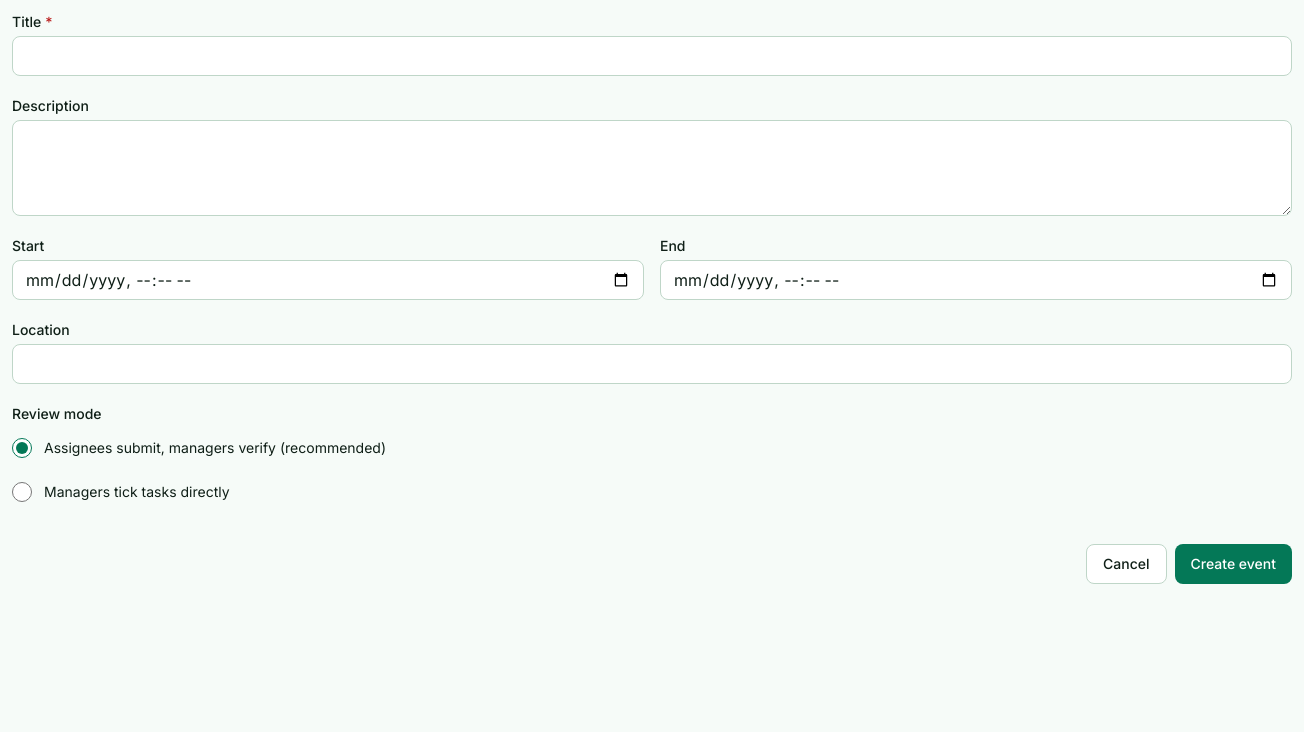
it: NewEventForm › refuses a date without a time instead of silently saving no date
The image size is (1304, 732).
Type "Fest" into the field labelled "Title*" at (652, 56), box top-left (12, 36), bottom-right (1292, 76)
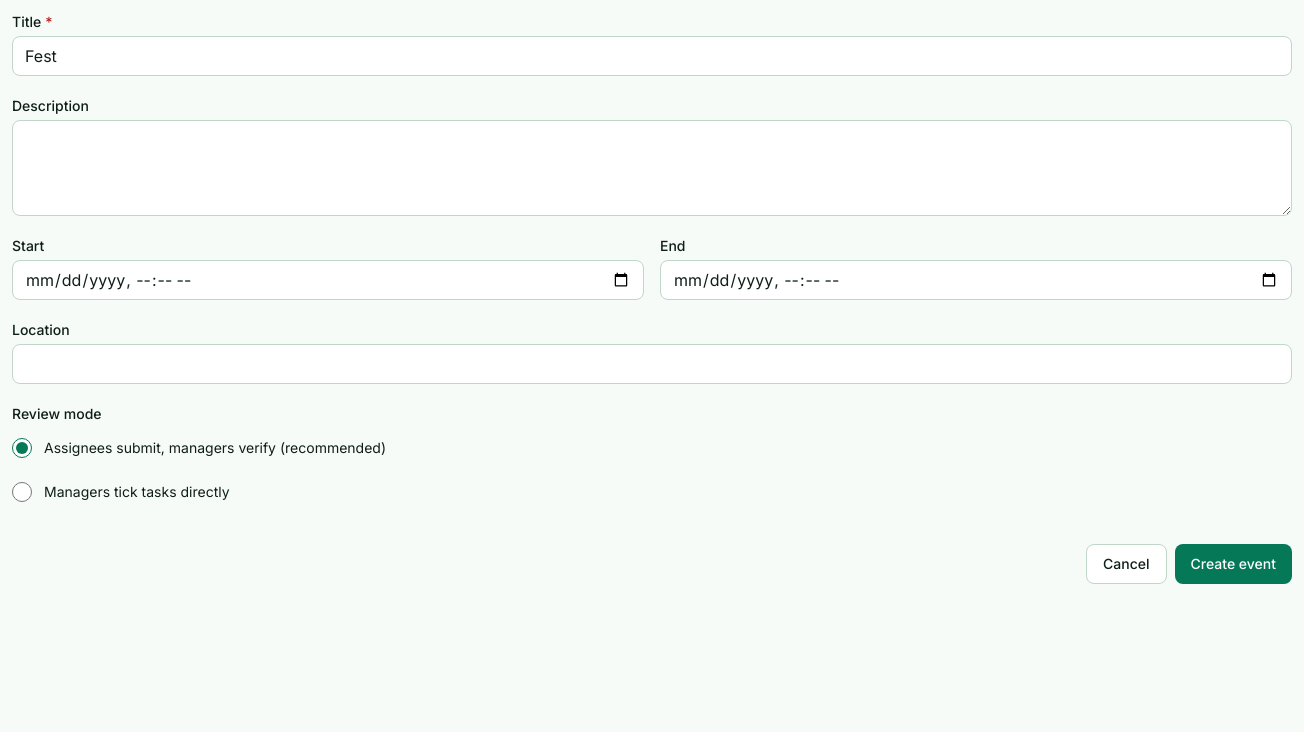
Type "2026-11-01T10:00" into the field labelled "Start" at (328, 280), box top-left (12, 260), bottom-right (644, 300)
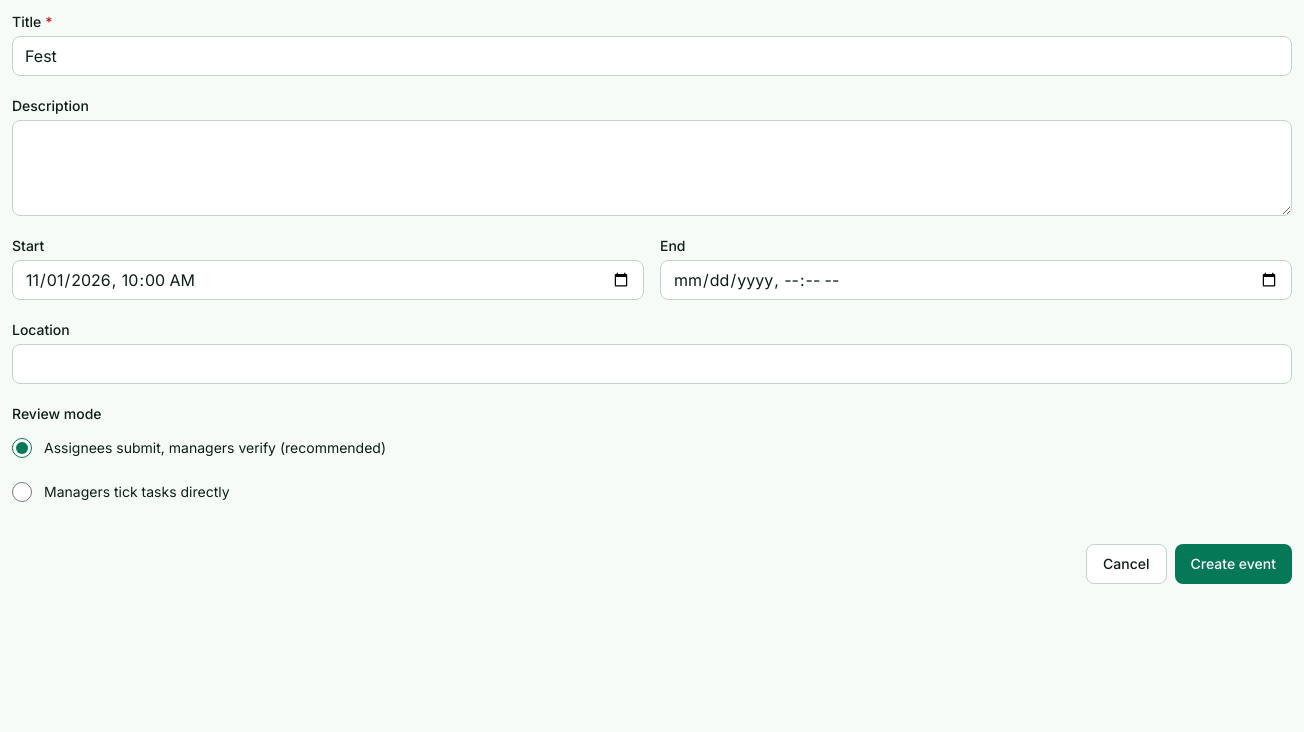
Clear the field labelled "Start" at (328, 280), box top-left (12, 260), bottom-right (644, 300)
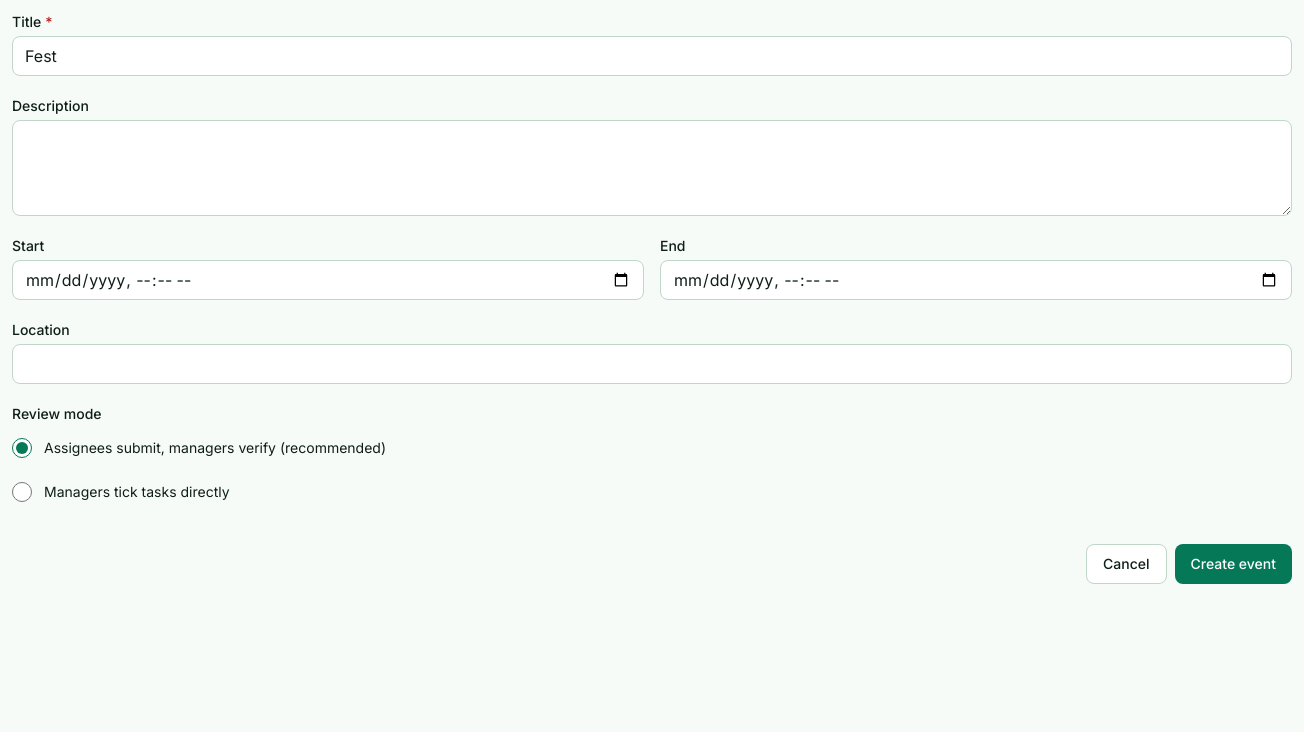
Click the button "Create event" at (1233, 564), box top-left (1174, 544), bottom-right (1292, 584)
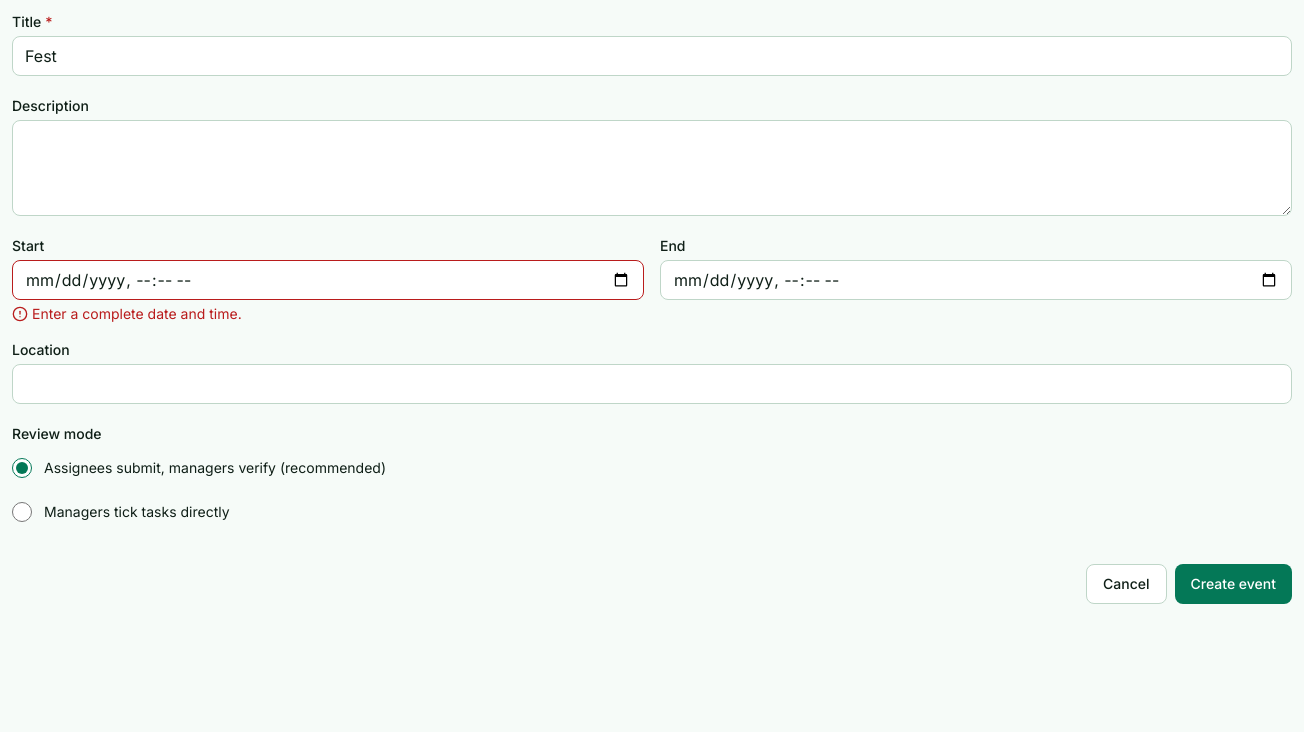
Expected: the text "Enter a complete date and time." is shown, top-left (12, 305), bottom-right (242, 322)
